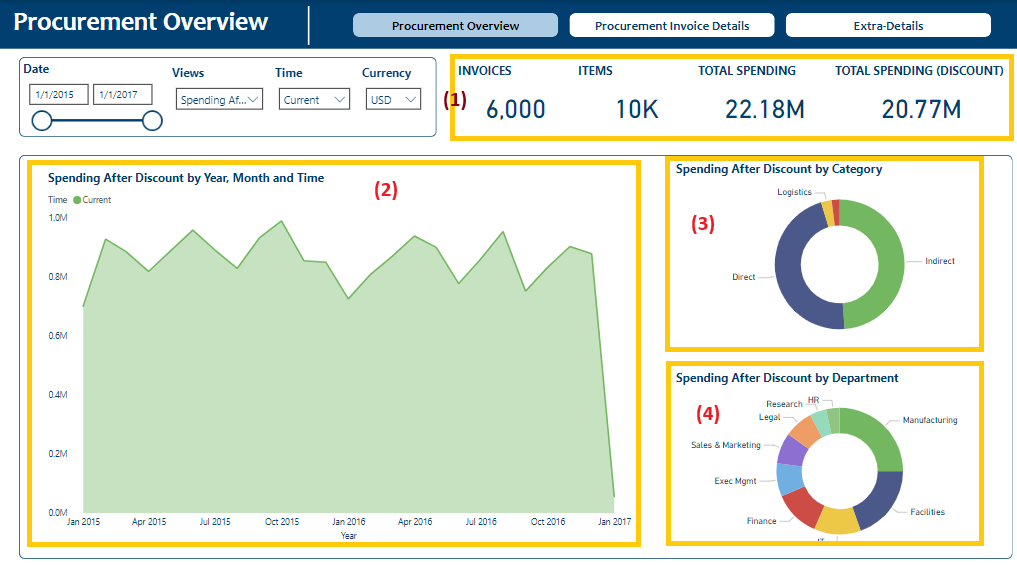

The dashboard page shown, as its layout file describes it:
{"tool":"powerbi","page":{"name":"Procurement Overview","canvas":[1280,720],"ordinal":0},"visuals":[{"type":"shape","box":[0,0,1280,61.4],"z":1000},{"type":"textbox","box":[14.3,2.9,344.3,55.7],"z":2000},{"type":"shape","box":[25.7,71.4,522.9,100],"z":3000,"group":"g2"},{"type":"shape","box":[25.7,194.3,1244.3,505.7],"z":3000},{"type":"shape","box":[567.8,71.4,701.4,101.4],"z":4000,"group":"g1"},{"type":"donutChart","fields":{"Y":[".Measures..Total Price Invoice After Discount"],"Category":["d_item_product.Category Hierarchy.Category","d_item_product.Category Hierarchy.Sub Category"]},"box":[48.8,430.7,420.7,241.7],"z":4000},{"type":"slicer","title":"Date","fields":{"Values":["d_date.Date"]},"box":[26.2,74.6,187.8,90.8],"z":5000,"group":"g2"},{"type":"donutChart","fields":{"Y":[".Measures..Total Price Invoice After Discount"],"Category":["f_invoice_procument.Department"]},"box":[429.5,430.7,420.7,241.7],"z":5000},{"type":"slicer","title":"Views","fields":{"Values":["Views.Views"]},"box":[212.8,80,128.6,80],"z":6000,"group":"g2"},{"type":"pageNavigator","box":[444.3,15.7,800,30],"z":7000},{"type":"shape","box":[341.4,7.1,94.3,48.6],"z":8000},{"type":"group","id":"g1","title":"Group 1","box":[567.8,71.4,701.4,101.4],"z":9000},{"type":"card","title":"INVOICES","fields":{"Values":["f_invoice_procument..Total Invoice"]},"box":[572.1,77.1,154.3,91.4],"z":9000,"group":"g1"},{"type":"group","id":"g2","title":"Group 2","box":[25.7,71.4,522.9,100],"z":10000},{"type":"card","title":"ITEMS","fields":{"Values":["f_invoice_procument..Total Items"]},"box":[721.3,77.1,155.7,91.4],"z":10000,"group":"g1"},{"type":"card","title":"TOTAL SPENDING","fields":{"Values":["f_invoice_procument..Total Price Invoice"]},"box":[872,77.1,177.1,91.4],"z":11000,"group":"g1"},{"type":"areaChart","fields":{"Y":[".Measures..Total Price Invoice After Discount"],"Category":["d_date.Date.Variation.Date Hierarchy.Year","d_date.Date.Variation.Date Hierarchy.Month","d_date.Date.Variation.Date Hierarchy.Day"],"Series":["Time Intelligence.Time"]},"box":[57.6,211.6,1187.1,195.3],"z":11000},{"type":"card","title":"TOTAL SPENDING (DISCOUNT)","fields":{"Values":["f_invoice_procument..Total Price Invoice After Discount"]},"box":[1044.1,77.1,225.7,91.4],"z":12000,"group":"g1"},{"type":"donutChart","fields":{"Y":[".Measures..Total Price Invoice After Discount"],"Category":["d_vendor.Vendor Name"]},"box":[837.7,430.7,420.7,241.7],"z":12000},{"type":"slicer","title":"Time","fields":{"Values":["Time Intelligence.Time"]},"box":[341.4,80,108.6,80],"z":13000,"group":"g2"},{"type":"slicer","title":"Currency","fields":{"Values":["Currency Views.Currency Views"]},"box":[450,80,88.6,80],"z":14001,"group":"g2"}]}

Visuals, with their boxes in screenshot pixels (x1, y1, x2, y2), scaled from the page's 1280x720 canvas onto the 1017x565 screenshot:
shape: {"x1": 0, "y1": 0, "x2": 1016, "y2": 48}
textbox: {"x1": 11, "y1": 2, "x2": 285, "y2": 46}
shape: {"x1": 20, "y1": 56, "x2": 436, "y2": 135}
shape: {"x1": 20, "y1": 152, "x2": 1009, "y2": 549}
shape: {"x1": 451, "y1": 56, "x2": 1008, "y2": 136}
donutChart - .Measures..Total Price Invoice After Discount x d_item_product.Category Hierarchy.Category: {"x1": 39, "y1": 338, "x2": 373, "y2": 528}
"Date" slicer: {"x1": 21, "y1": 59, "x2": 170, "y2": 130}
donutChart - .Measures..Total Price Invoice After Discount x f_invoice_procument.Department: {"x1": 341, "y1": 338, "x2": 676, "y2": 528}
"Views" slicer: {"x1": 169, "y1": 63, "x2": 271, "y2": 126}
pageNavigator: {"x1": 353, "y1": 12, "x2": 989, "y2": 36}
shape: {"x1": 271, "y1": 6, "x2": 346, "y2": 44}
"Group 1" group: {"x1": 451, "y1": 56, "x2": 1008, "y2": 136}
"INVOICES" card: {"x1": 455, "y1": 61, "x2": 577, "y2": 132}
"Group 2" group: {"x1": 20, "y1": 56, "x2": 436, "y2": 135}
"ITEMS" card: {"x1": 573, "y1": 61, "x2": 697, "y2": 132}
"TOTAL SPENDING" card: {"x1": 693, "y1": 61, "x2": 834, "y2": 132}
areaChart - .Measures..Total Price Invoice After Discount x d_date.Date.Variation.Date Hierarchy.Year: {"x1": 46, "y1": 166, "x2": 989, "y2": 319}
"TOTAL SPENDING (DISCOUNT)" card: {"x1": 830, "y1": 61, "x2": 1009, "y2": 132}
donutChart - .Measures..Total Price Invoice After Discount x d_vendor.Vendor Name: {"x1": 666, "y1": 338, "x2": 1000, "y2": 528}
"Time" slicer: {"x1": 271, "y1": 63, "x2": 358, "y2": 126}
"Currency" slicer: {"x1": 358, "y1": 63, "x2": 428, "y2": 126}
